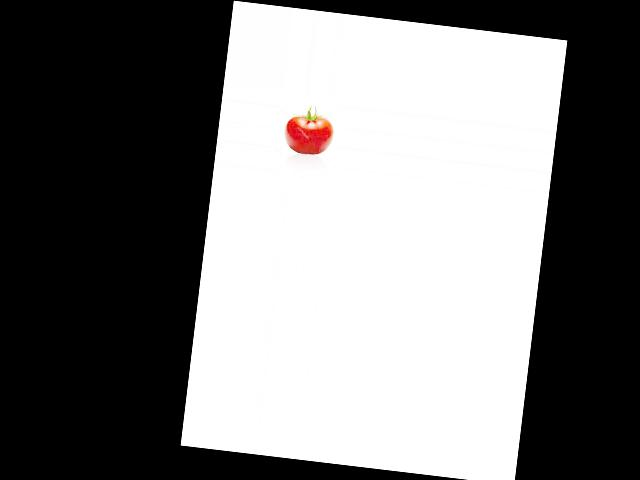tomato: (281, 113, 335, 157)
